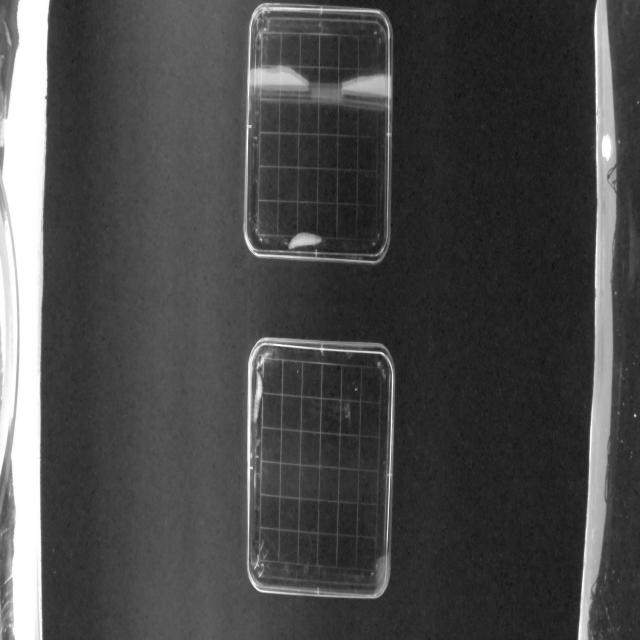larva: (287, 231, 322, 251), (252, 375, 266, 423)
